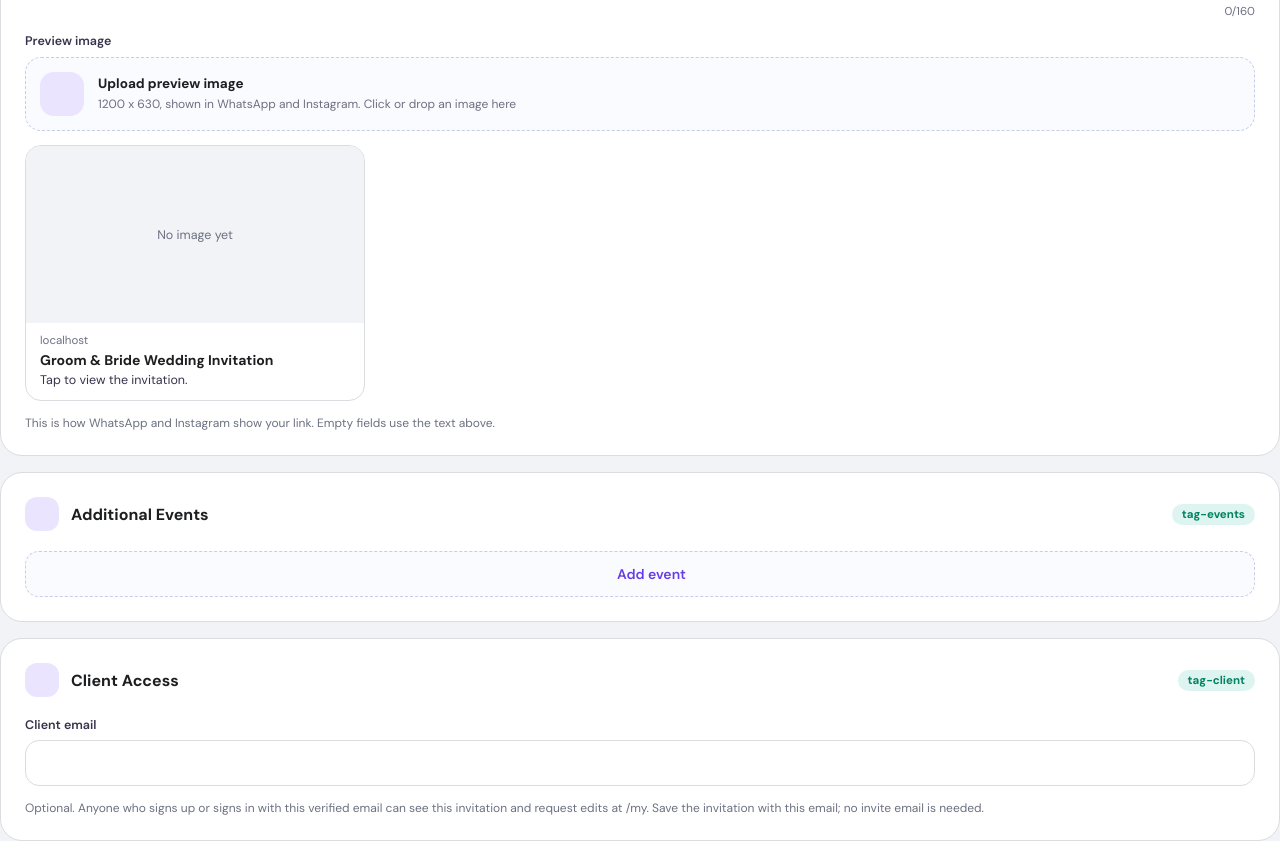
Test case: CreateForm: additional events › offers Add event with up to two events, then shows the hint instead
(page scrolled)
Click the button "Add event" at (640, 574), box [25,551,1255,597]
(page scrolled)
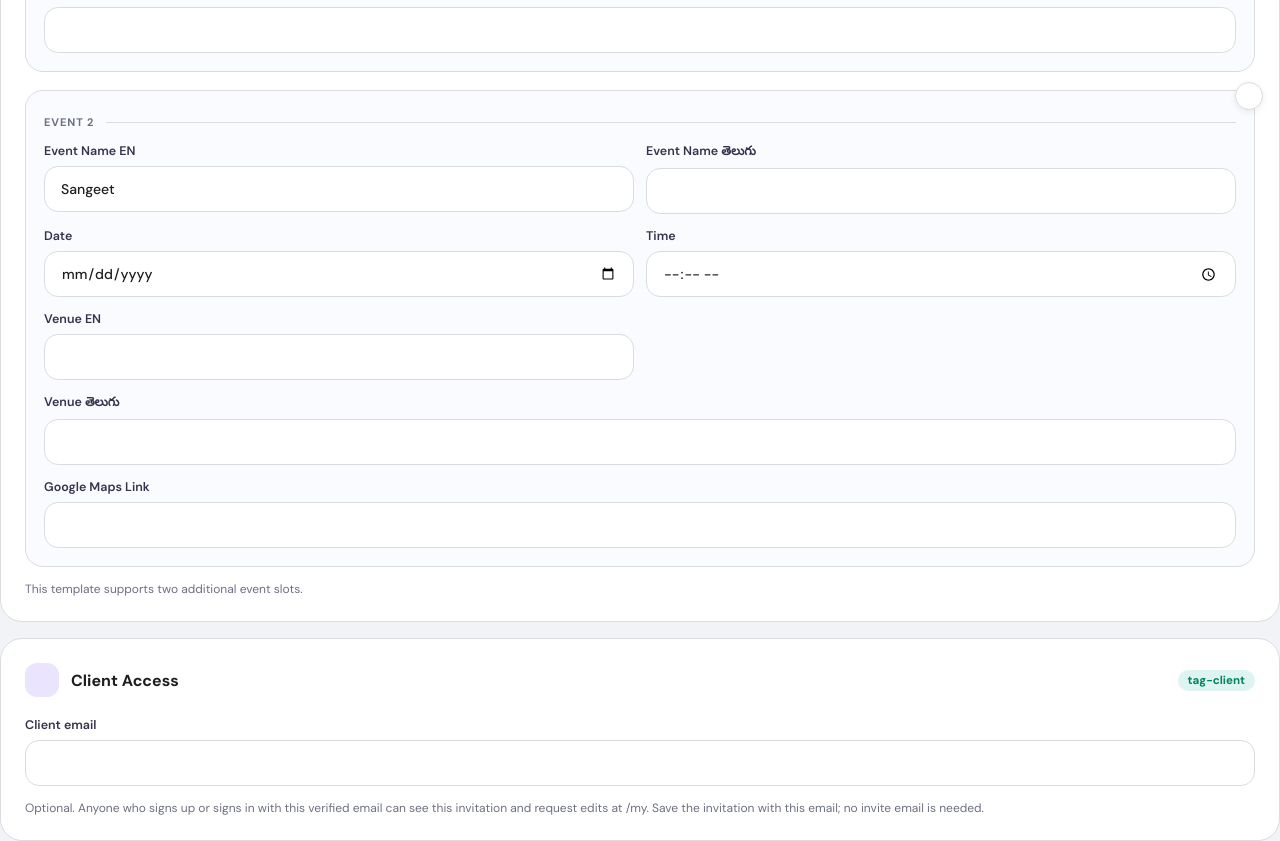
Now the button named "Remove event" is shown, box [1235,82,1263,110]
Now the text with class "hint" reads "This template supports two additional event slots.", box [25,581,302,597]
